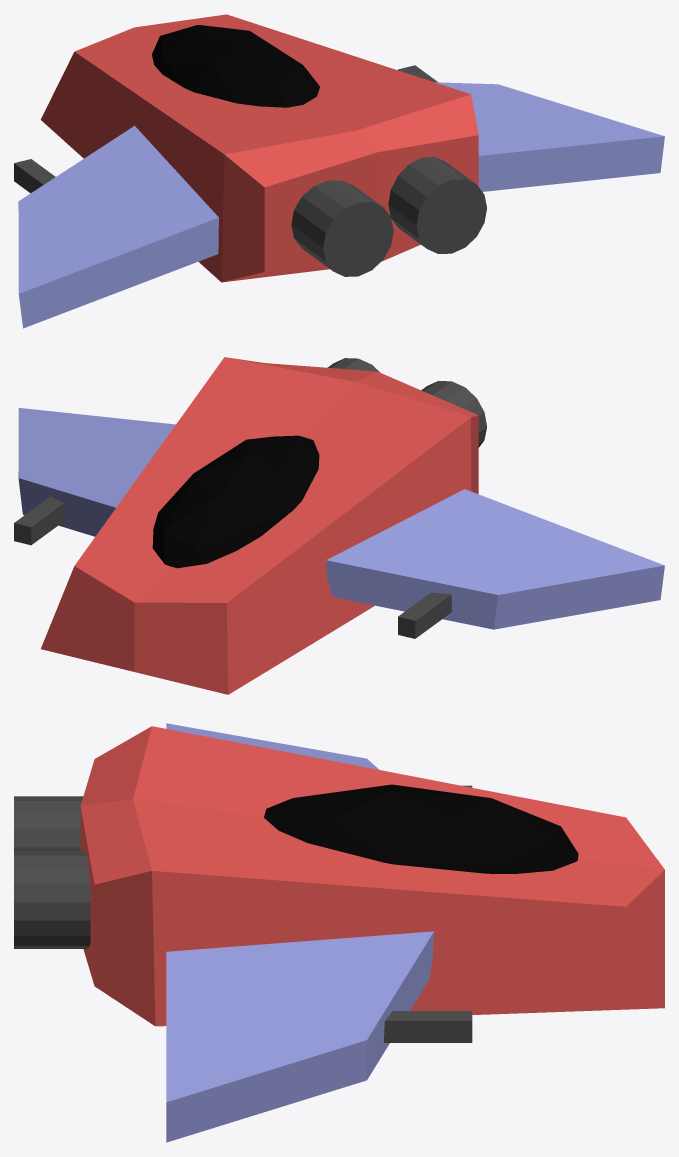
File: spaceship.glb
3 views of the same model, one above another, from view 1: azimuth 30°, elevation 25°; view 2: azimuth 150°, elevation 25°; view 3: azimuth 270°, elevation 25° (orthographic). The views are drawn at different scales.
Parts seen in each view (by area): view 1: Cube, Cube.001, Cylinder, Icosphere, Cube.002; view 2: Cube, Cube.001, Icosphere, Cube.002, Cylinder; view 3: Cube, Cube.001, Icosphere, Cylinder, Cube.002.
Part boxes in pixels (x1,y1,x2,y2): Cube: (40,14,478,282); Cube.001: (18,82,664,328); Cylinder: (291,156,486,276); Icosphere: (152,25,319,107); Cube.002: (14,65,437,193); Cube: (41,357,478,694); Cube.001: (18,408,664,629); Icosphere: (152,435,319,568); Cube.002: (14,496,451,638); Cylinder: (328,358,486,447); Cube: (80,726,664,1026); Cube.001: (166,723,433,1142); Icosphere: (264,784,578,873); Cylinder: (14,796,90,948); Cube.002: (383,785,472,1042).
Size of the model in its own units: 2.02 by 0.4063 by 1.47.
